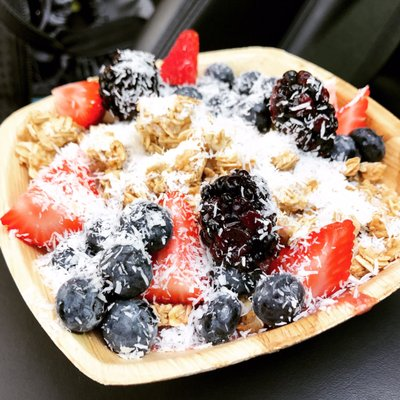sandwich: (1, 45, 400, 392)
